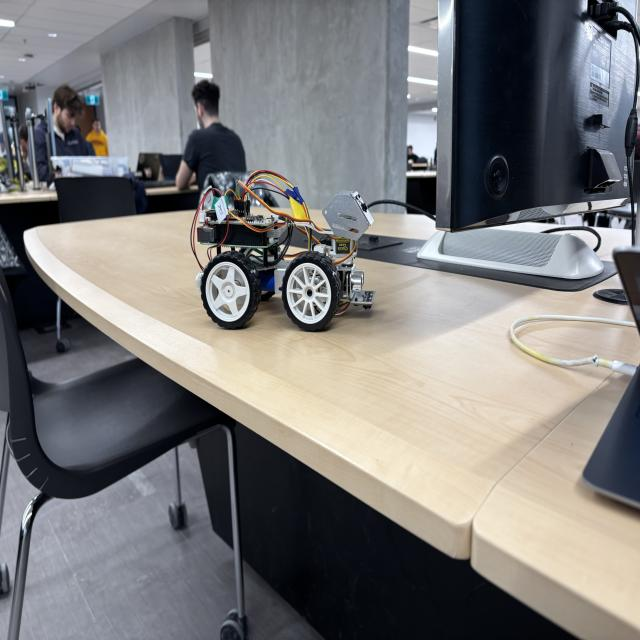vehicle: (193, 170, 377, 331)
